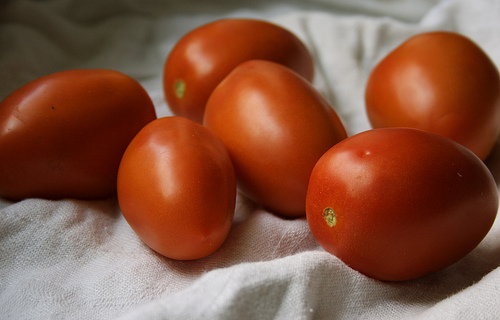tomato: (310, 125, 500, 280), (1, 61, 144, 203), (206, 67, 342, 209), (124, 119, 238, 263), (356, 27, 500, 136), (162, 7, 310, 113)
